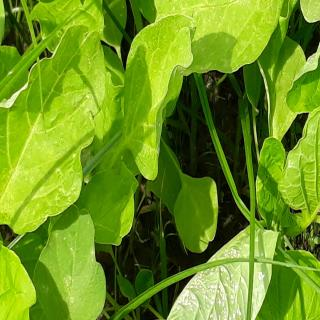karat_putih: (158, 222, 279, 320)
